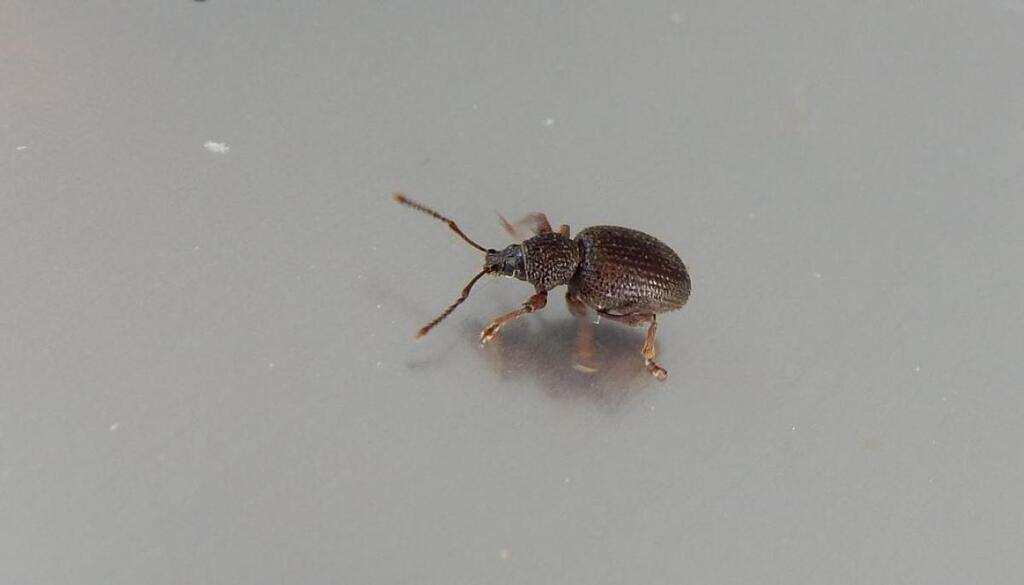weevils: (344, 118, 756, 431)
